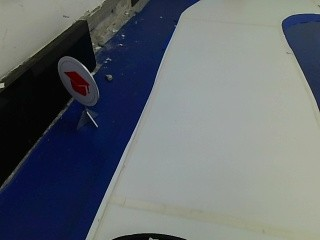school: (57, 56, 98, 105)
